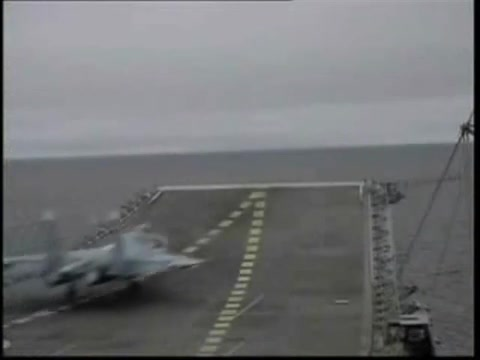aeroplane: (4, 210, 211, 305)
